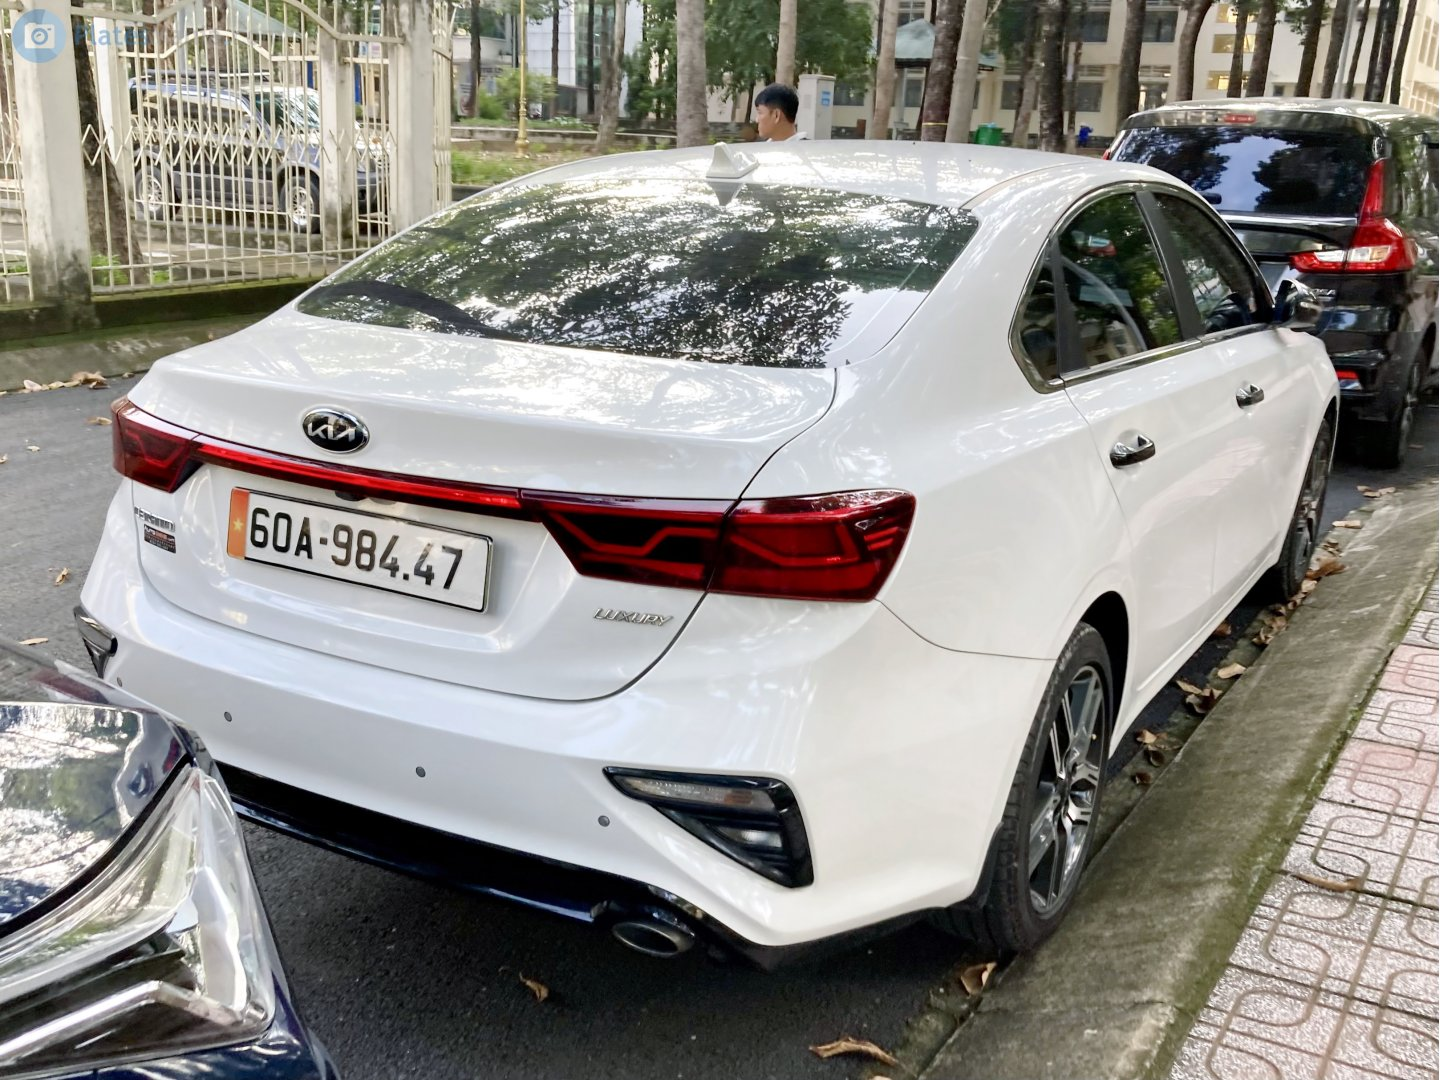bien_so: (228, 488, 490, 612)
